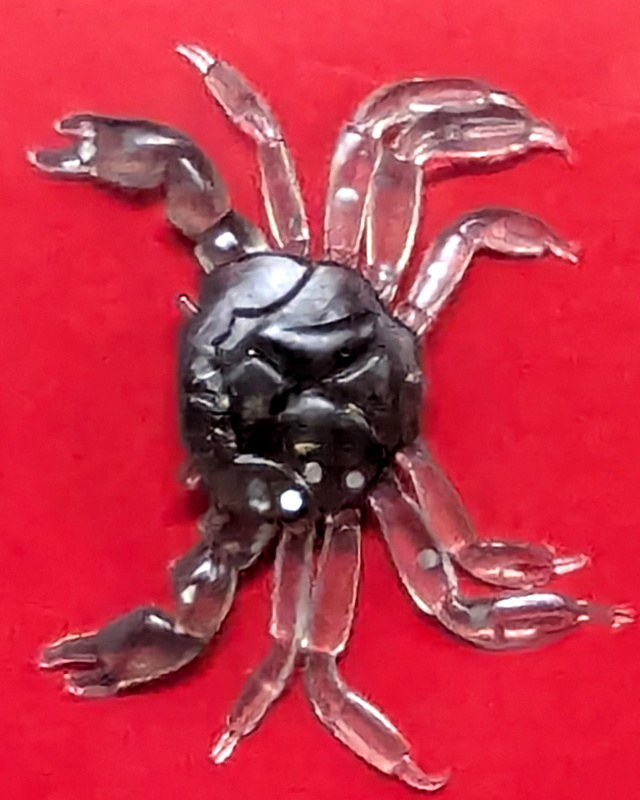crab1: (26, 41, 640, 789)
